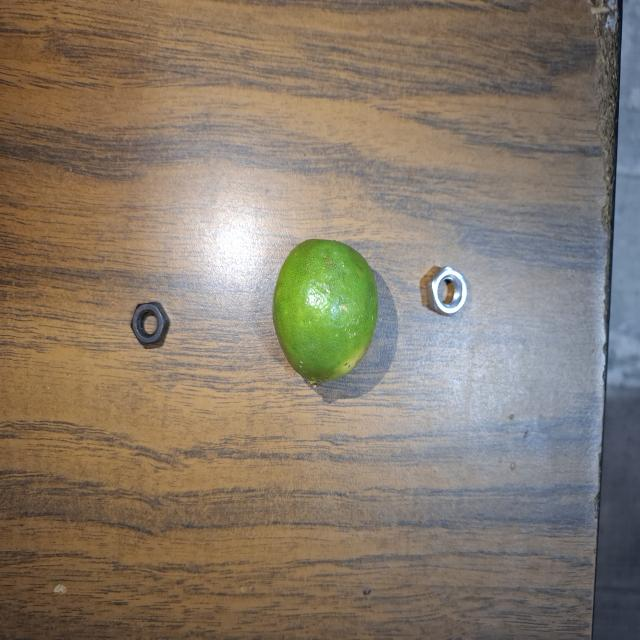limon: (268, 230, 376, 392)
milimetrico: (127, 288, 175, 362)
tuerca: (412, 256, 481, 324)
